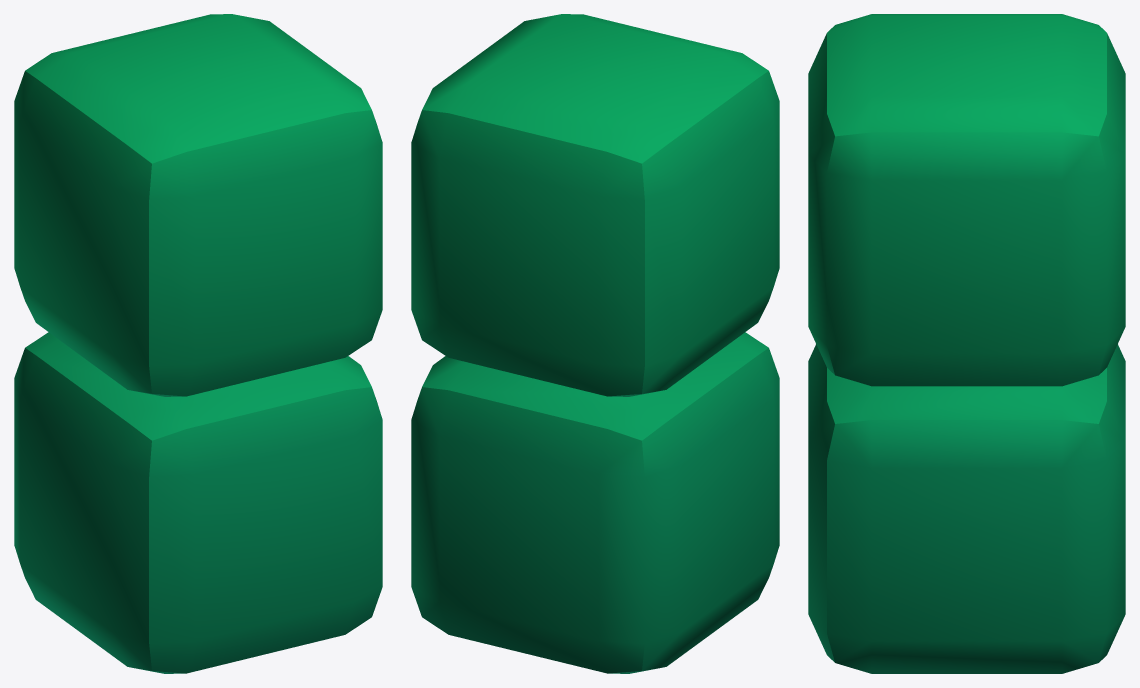
Rendered from barrier_1x1x2_green.glb.
3 renders of one model, left to right at view 1: azimuth 30°, elevation 25°; view 2: azimuth 150°, elevation 25°; view 3: azimuth 270°, elevation 25°, orthographic. The views are drawn at different scales.
Visible parts, largest first — view 1: barrier_1x1x2_green; view 2: barrier_1x1x2_green; view 3: barrier_1x1x2_green.
Part boxes in pixels (box(x1,y1,x2,y2)): barrier_1x1x2_green: box(14, 14, 382, 673); barrier_1x1x2_green: box(411, 14, 779, 673); barrier_1x1x2_green: box(808, 14, 1125, 673).
Bounding box in the file's own units: 1 × 2 × 1.
1 material, 1 textured.
